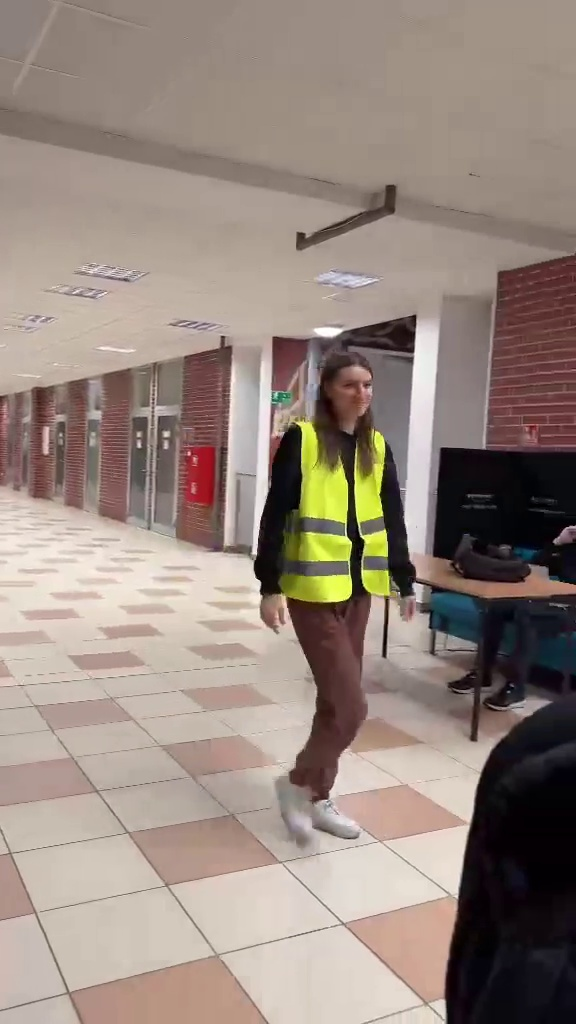vest: (256, 348, 415, 851)
